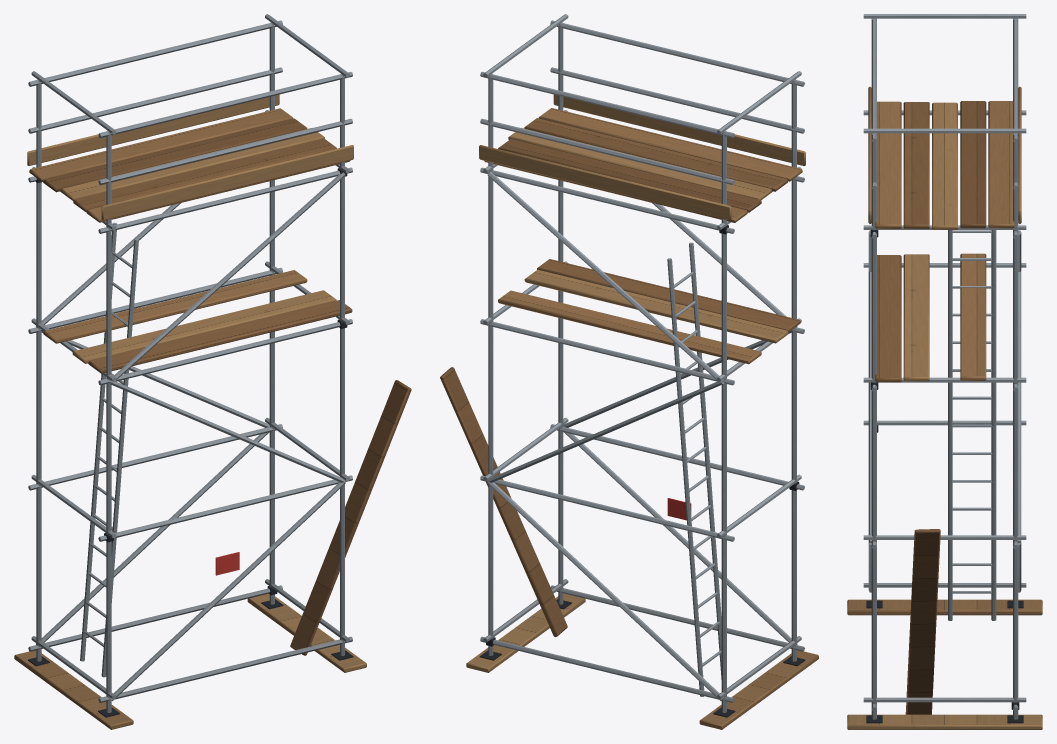
The model's file is scaffold_tower.glb.
3 renders of one model, left to right at view 1: azimuth 30°, elevation 25°; view 2: azimuth 150°, elevation 25°; view 3: azimuth 270°, elevation 25°, orthographic.
Parts seen in each view (by area): view 1: scaffold_tower; view 2: scaffold_tower; view 3: scaffold_tower.
Boxes of the visible parts, x1,y1,x2,y2 form: scaffold_tower: [14, 14, 411, 729]; scaffold_tower: [440, 14, 818, 729]; scaffold_tower: [847, 14, 1042, 729].
Bounding box in the file's own units: 3.59 × 6.07 × 1.8.
9 materials, 9 textured.
